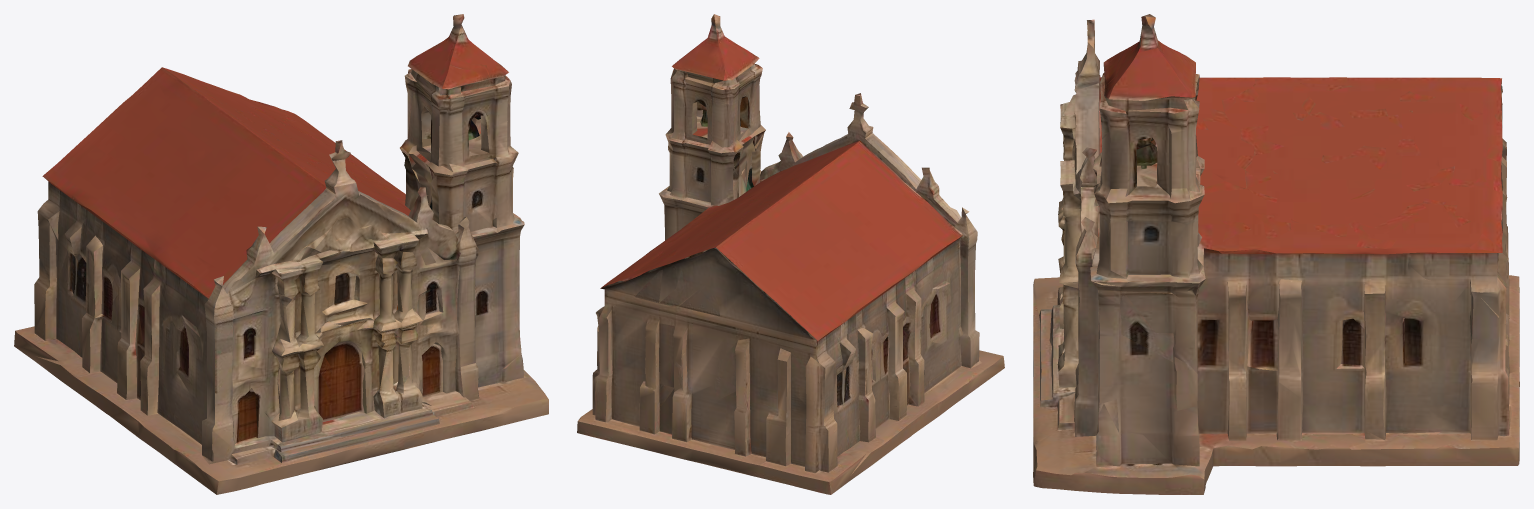
The model's file is san-agustin-church-manila.glb.
3 renders of one model, left to right at view 1: azimuth 30°, elevation 25°; view 2: azimuth 150°, elevation 25°; view 3: azimuth 270°, elevation 25°, orthographic. The views are drawn at different scales.
Visible parts, largest first — view 1: logan-textured.obj; view 2: logan-textured.obj; view 3: logan-textured.obj.
Boxes of the visible parts, x1,y1,x2,y2 form: logan-textured.obj: (14, 14, 548, 494); logan-textured.obj: (577, 14, 1004, 494); logan-textured.obj: (1033, 14, 1519, 494).
Size of the model in its own units: 0.9687 by 1 by 0.9855.
Materials: 1 (1 with a texture image).
